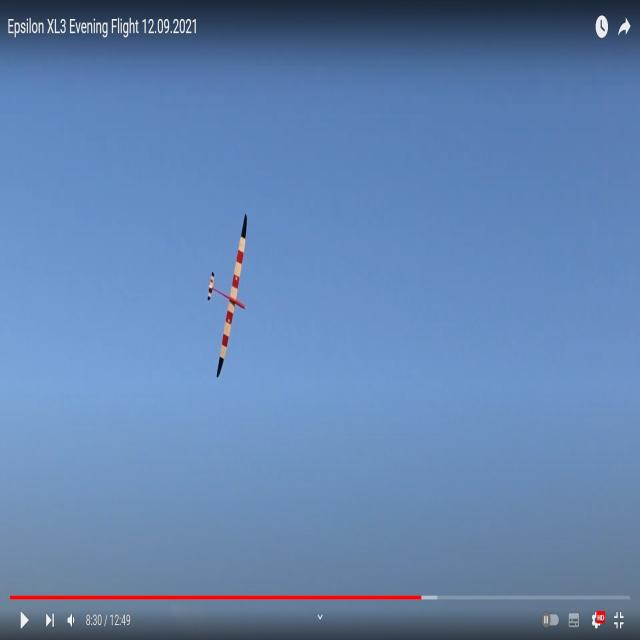iha: (206, 215, 250, 378)
